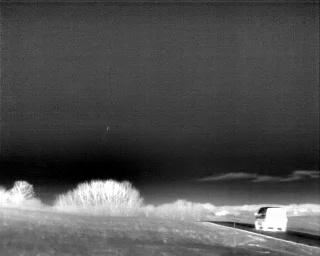BIRD: (105, 123, 112, 133)
